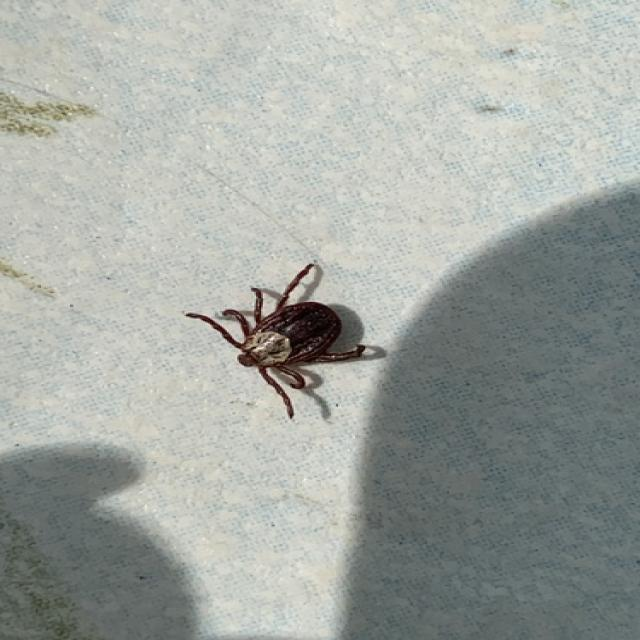Dermacentor Reticulatus-F: (184, 264, 387, 420)
